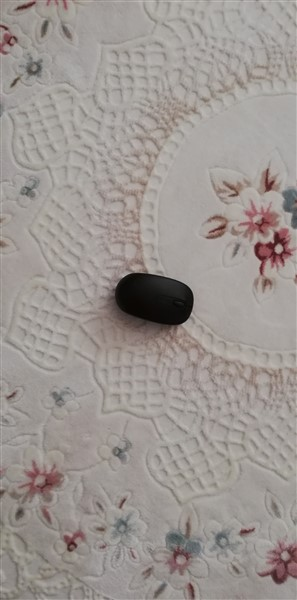mouse: (110, 268, 200, 330)
